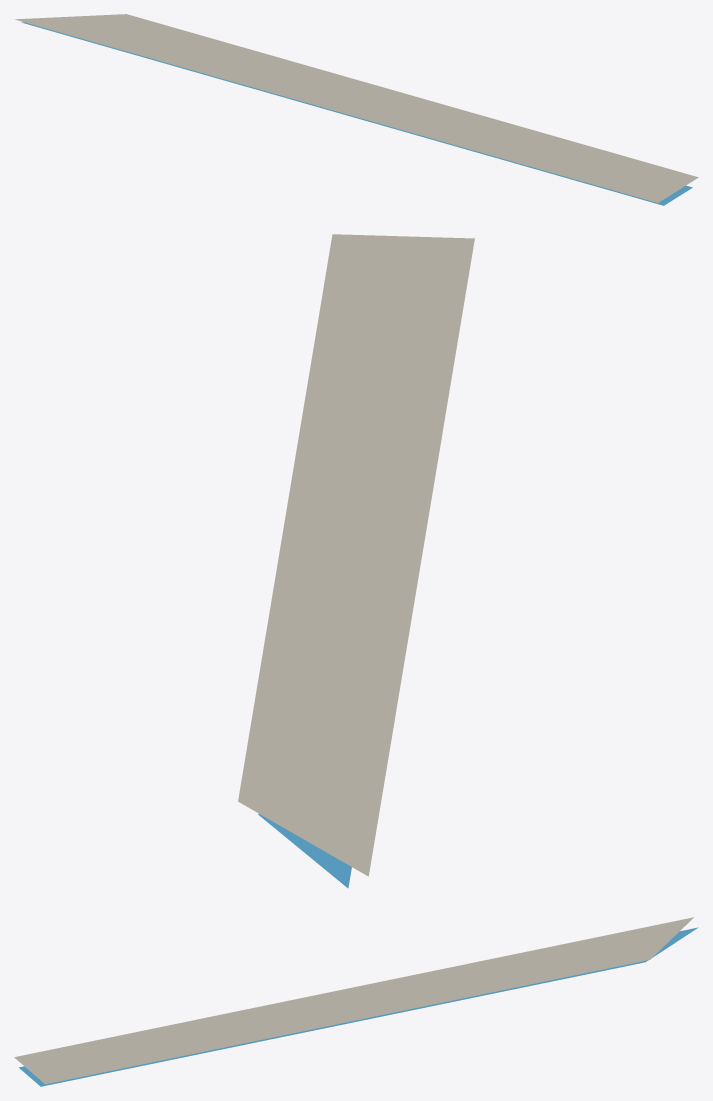
The picture shows the model from 3 angles, top to bottom: view 1: azimuth 30°, elevation 25°; view 2: azimuth 150°, elevation 25°; view 3: azimuth 270°, elevation 25°; orthographic projection. The views are drawn at different scales.
Parts seen in each view (by area): view 1: estructura_terreno, estructura_agua; view 2: estructura_terreno, estructura_agua; view 3: estructura_terreno, estructura_agua.
Part boxes in pixels (x1,y1,x2,y2): estructura_terreno: (15, 14, 698, 202); estructura_agua: (21, 22, 692, 205); estructura_terreno: (238, 234, 474, 876); estructura_agua: (258, 814, 351, 888); estructura_terreno: (14, 917, 694, 1084); estructura_agua: (19, 927, 698, 1086).
Size of the model in its own units: 23.27 by 0.41 by 40.28.
